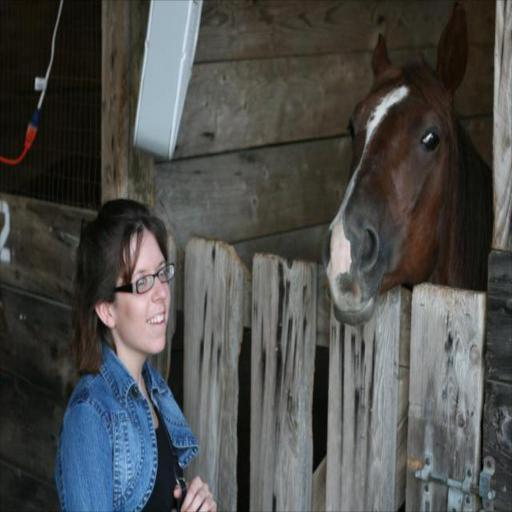Horse: (320, 0, 494, 329)
